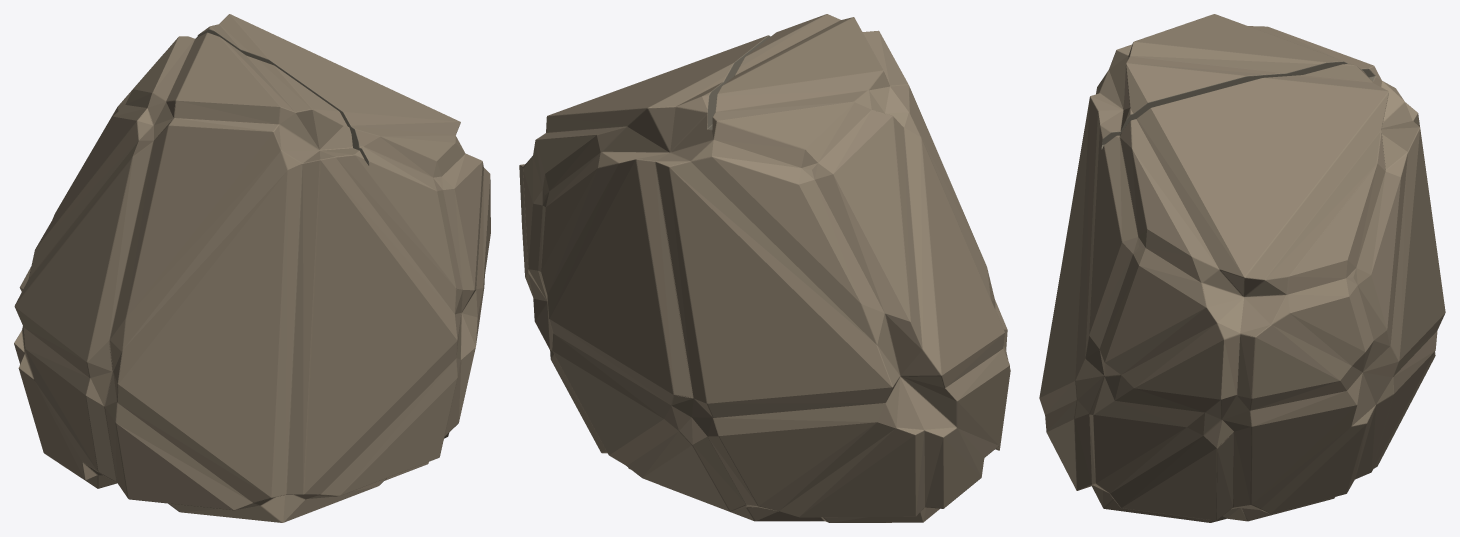
The model's file is V7_Granit_0.fbx.
The picture shows the model from 3 angles, left to right: view 1: azimuth 30°, elevation 25°; view 2: azimuth 150°, elevation 25°; view 3: azimuth 270°, elevation 25°; orthographic projection. The views are drawn at different scales.
Visible parts, largest first — view 1: V7_Granit_0; view 2: V7_Granit_0; view 3: V7_Granit_0.
Boxes of the visible parts, bbox=[...] form: V7_Granit_0: bbox=[14, 14, 490, 522]; V7_Granit_0: bbox=[519, 14, 1010, 522]; V7_Granit_0: bbox=[1039, 14, 1445, 522].
Size of the model in its own units: 228 by 192 by 177.
